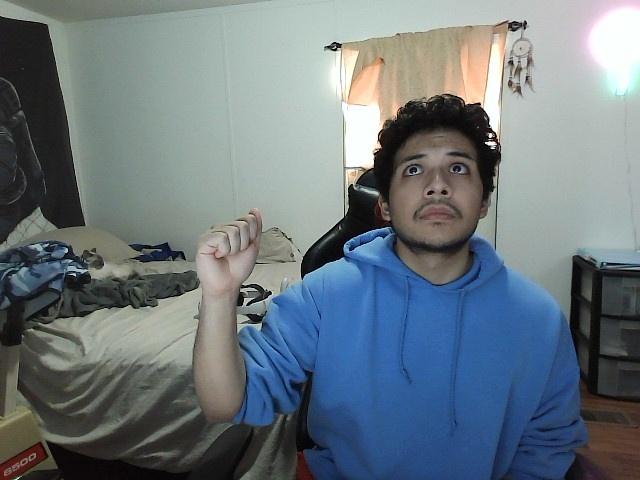A: (188, 204, 268, 293)
